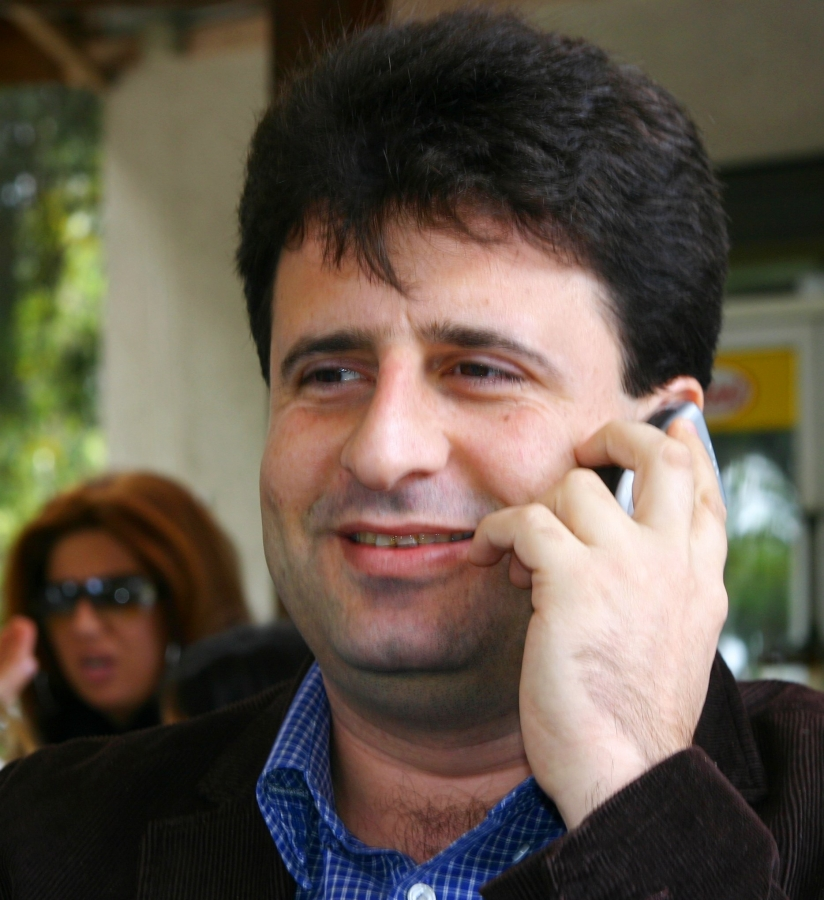phone: (552, 392, 745, 600)
talk: (242, 290, 740, 715)
